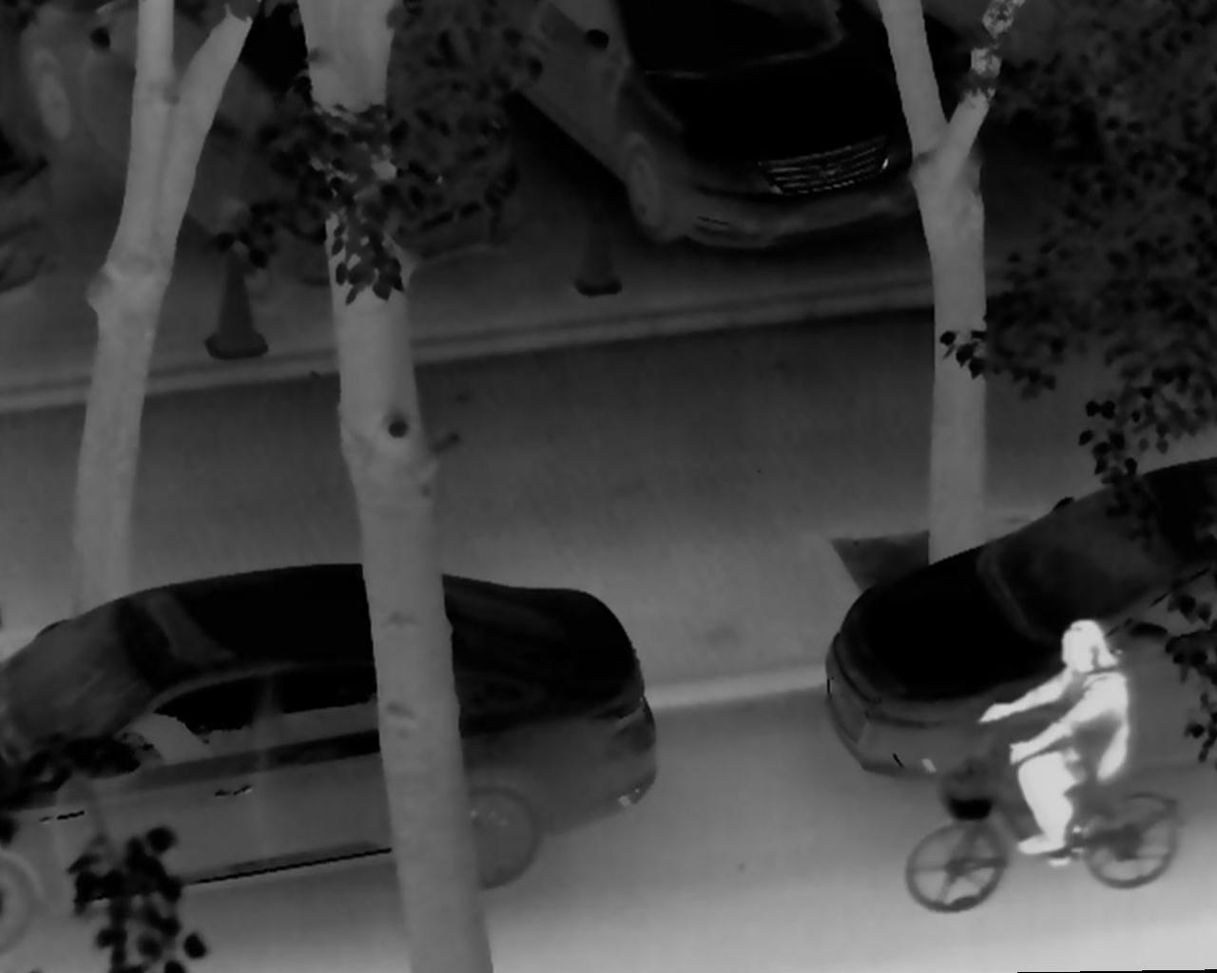person: (981, 616, 1130, 875)
